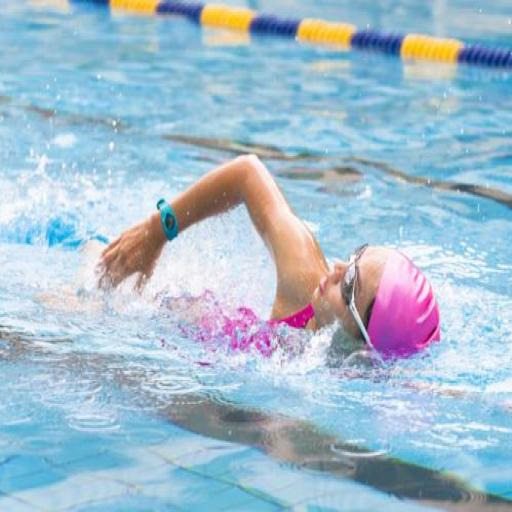swimming: (84, 150, 442, 371)
